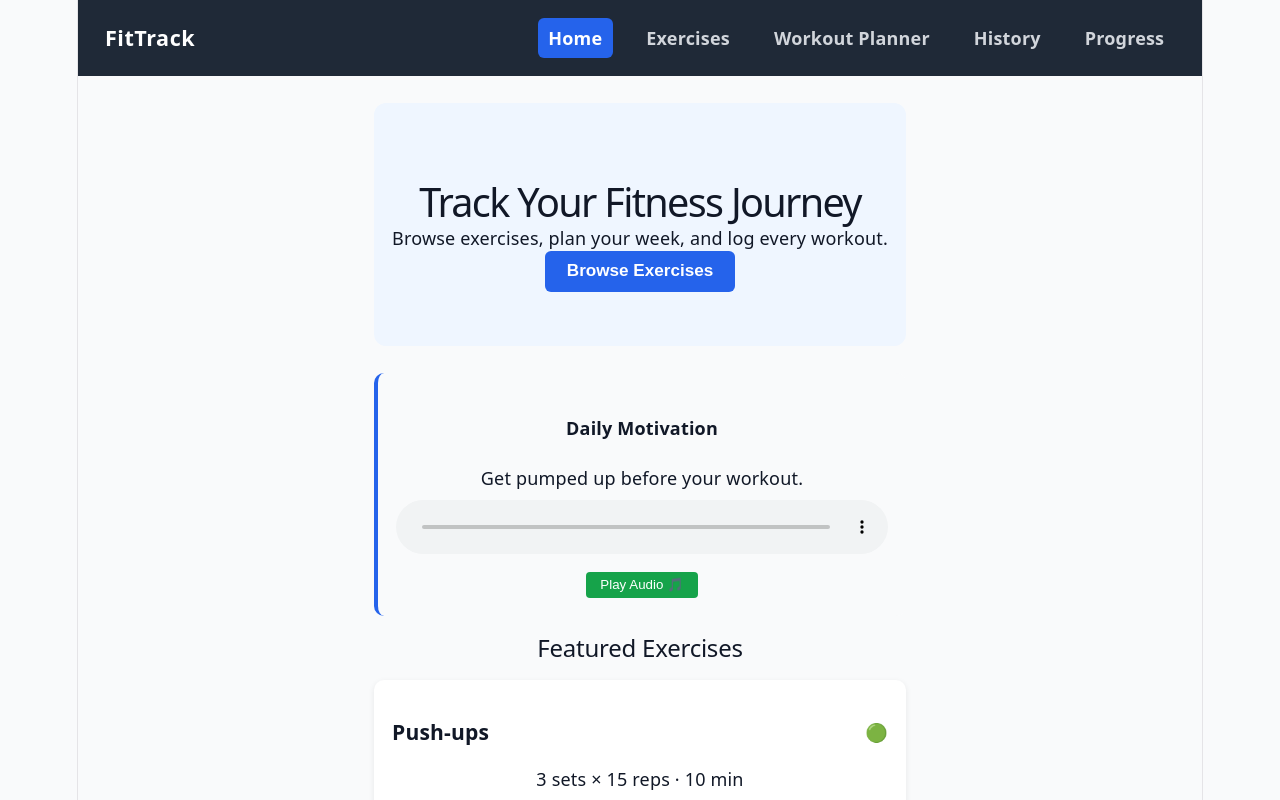
Test case: App Integration › removing an exercise from the Workout Planner removes it from the day
Click the link "Exercises" at (688, 38), box left=646, top=26, right=730, bottom=50
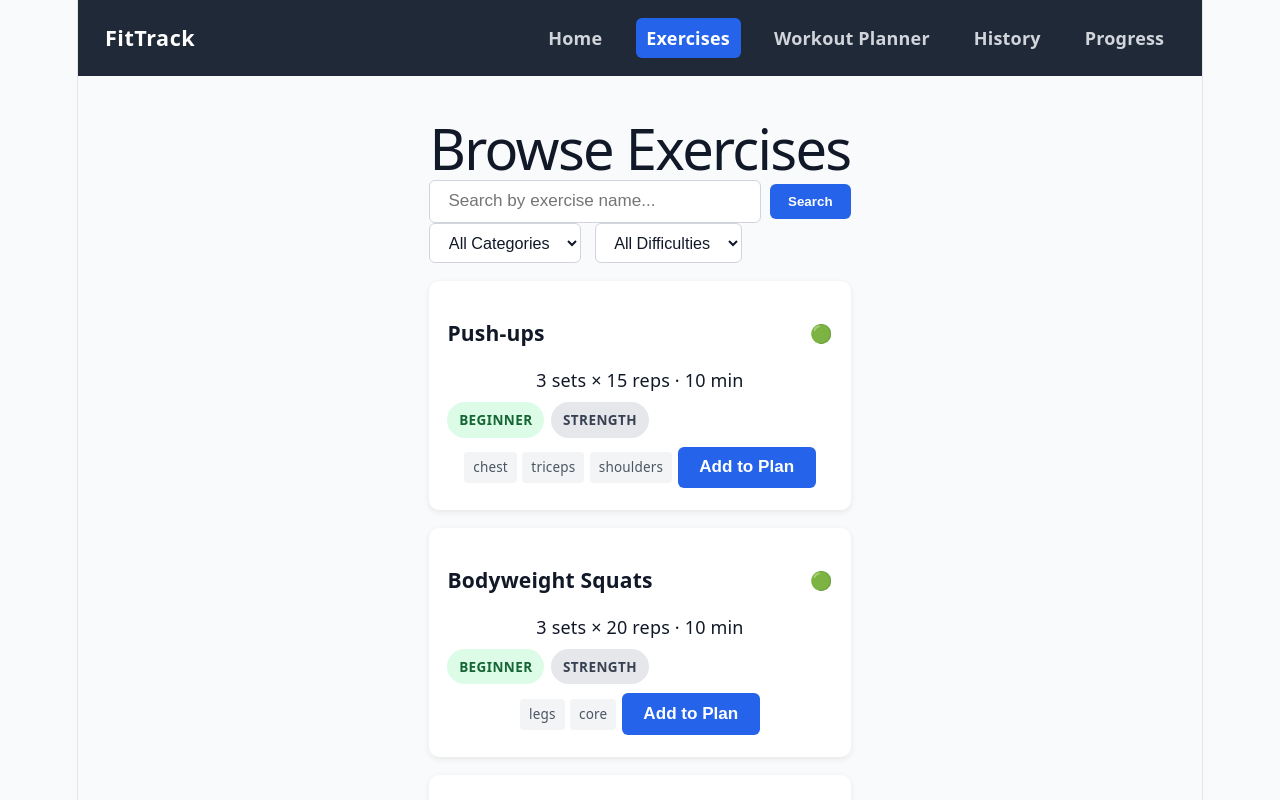
Check: the heading "Push-ups" is shown, box left=448, top=320, right=545, bottom=346
Click the button "Add to Plan" in the row of "triceps" at (747, 467), box left=678, top=446, right=816, bottom=488
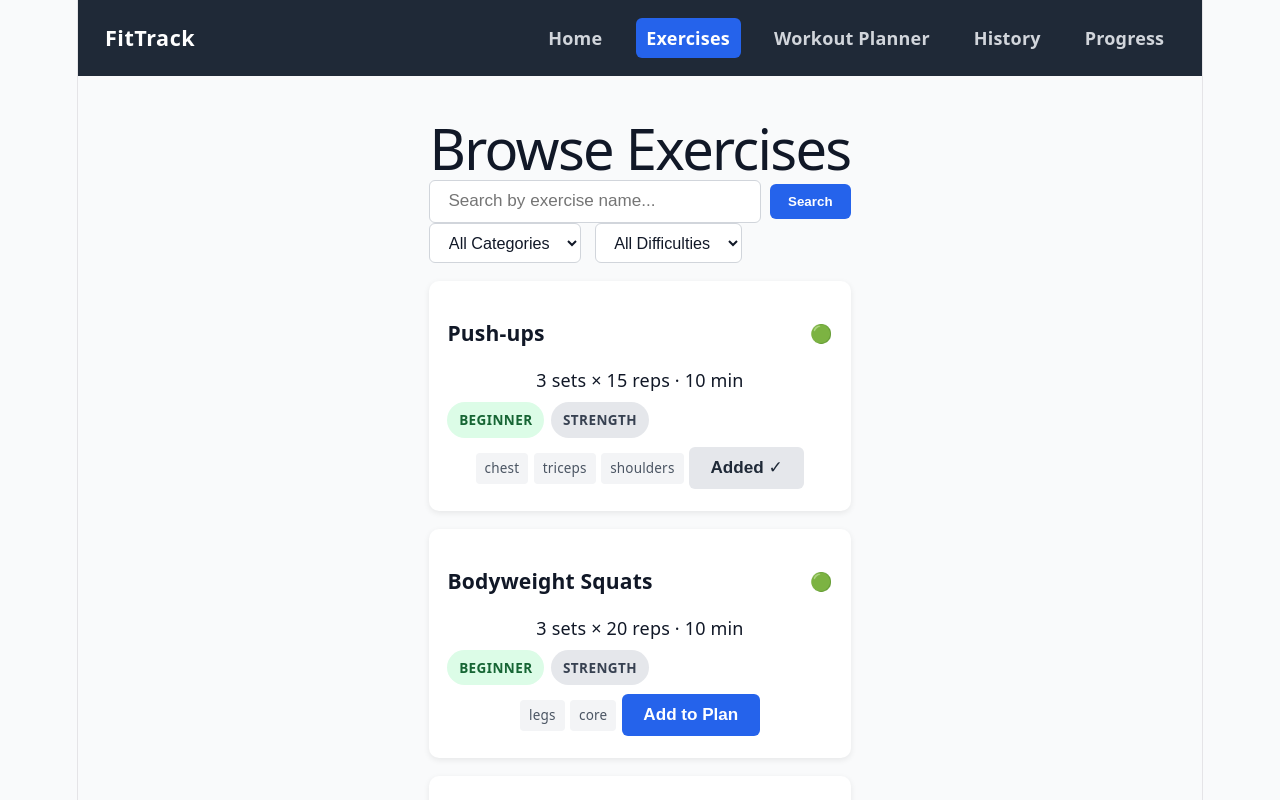
Click the link "Workout Planner" at (852, 38), box left=774, top=26, right=930, bottom=50
(page scrolled)
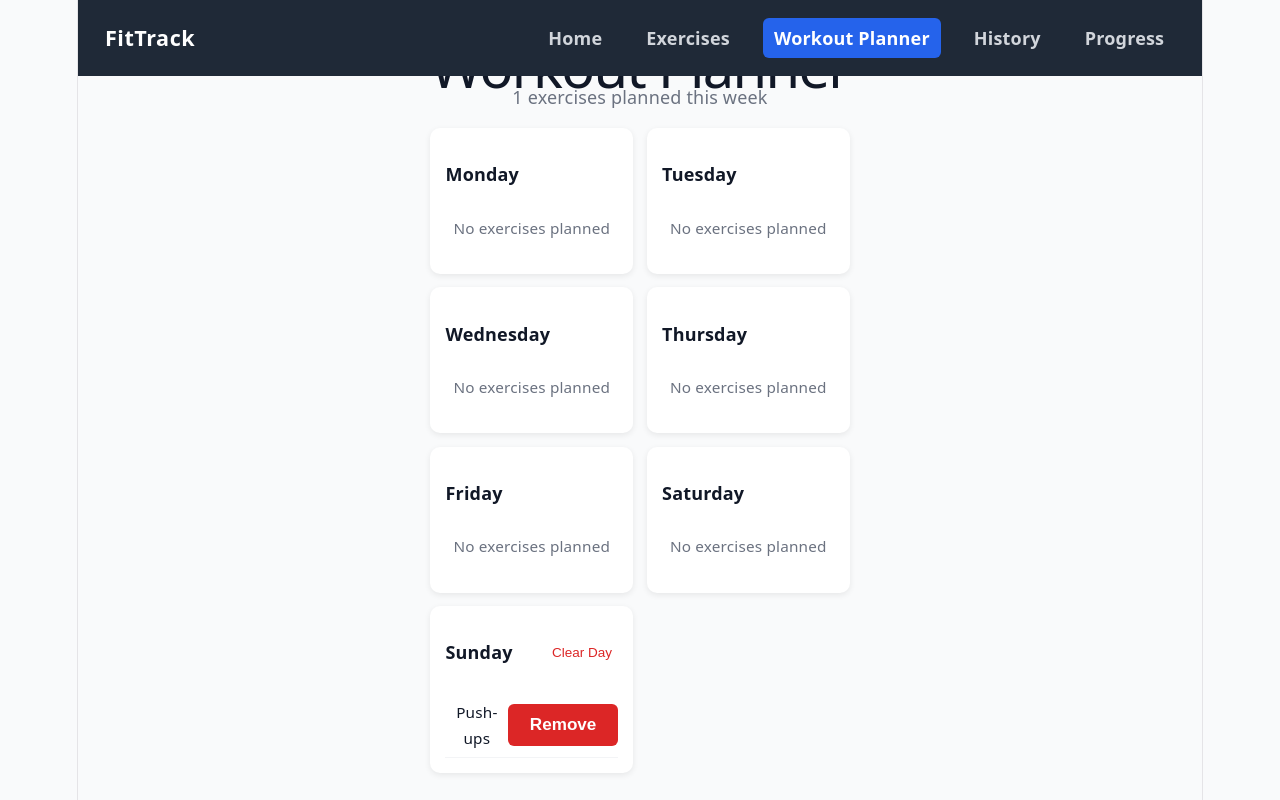
Check: the text "Push-ups" is shown, box left=456, top=702, right=498, bottom=748
Click the button "Remove" at (563, 725), box left=508, top=704, right=618, bottom=746
(page scrolled)
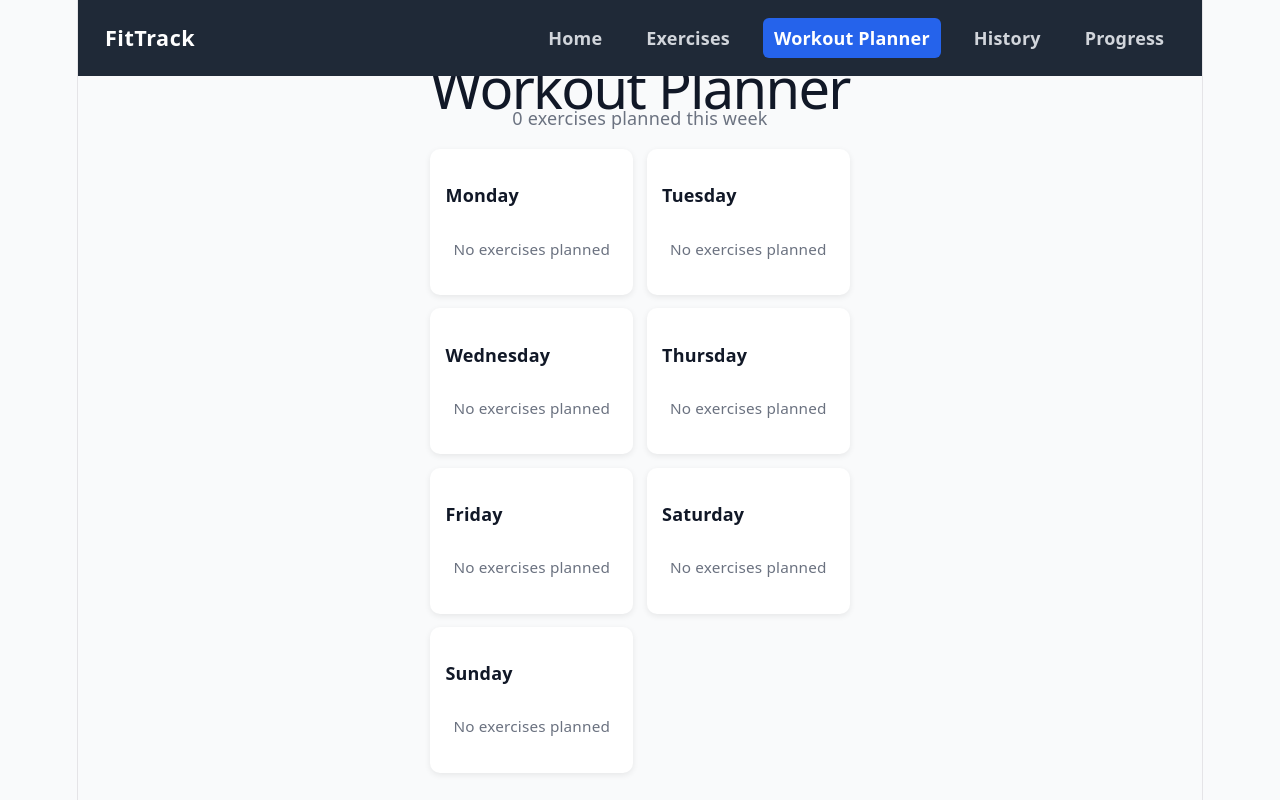
Check: the text "Push-ups" is gone
